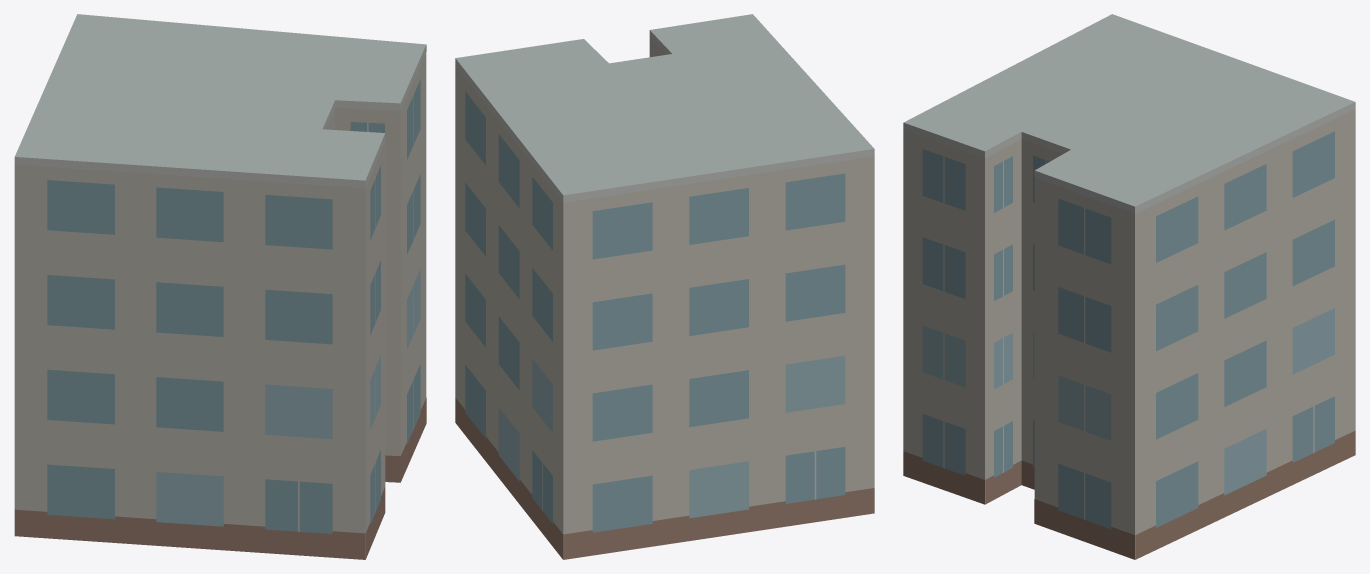
Rendered from survey-upis-32538777.glb.
3 views of the same model, side by side, from view 1: azimuth 30°, elevation 25°; view 2: azimuth 150°, elevation 25°; view 3: azimuth 270°, elevation 25° (orthographic). The views are drawn at different scales.
Parts seen in each view (by area): view 1: survey-upis-32538777.tmp; view 2: survey-upis-32538777.tmp; view 3: survey-upis-32538777.tmp.
Part boxes in pixels (x1,y1,x2,y2): survey-upis-32538777.tmp: (14, 14, 426, 559); survey-upis-32538777.tmp: (455, 14, 874, 559); survey-upis-32538777.tmp: (903, 14, 1355, 559).
Bounding box in the file's own units: 14.05 × 12 × 13.93.
